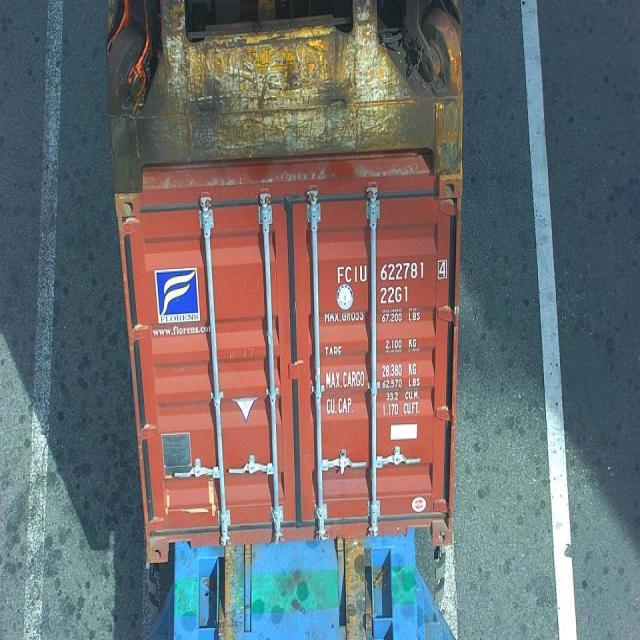ISO: (380, 286, 410, 304)
container_number: (336, 260, 451, 284)
